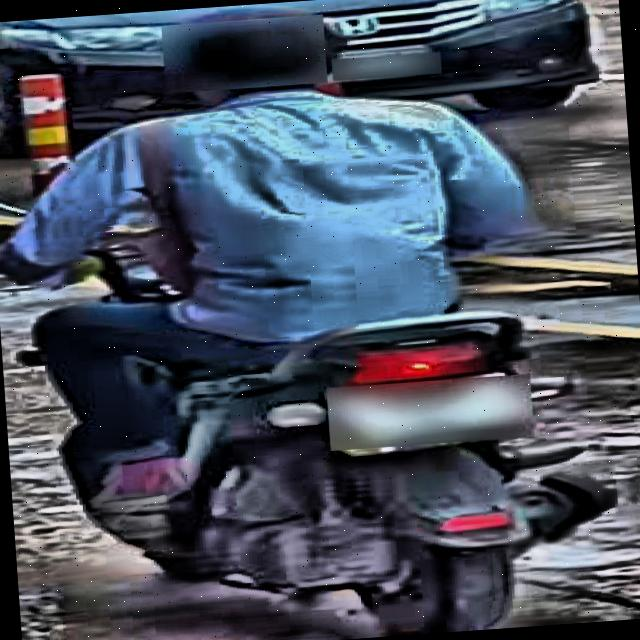motorcycle: (27, 181, 634, 640)
